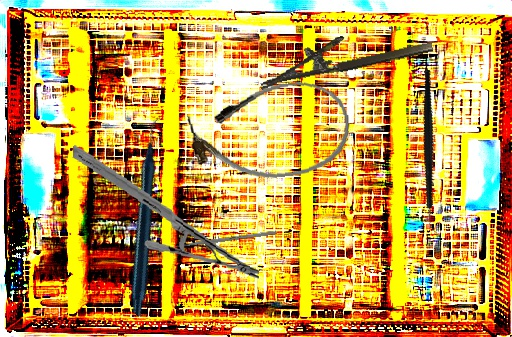Cannula: (183, 76, 357, 188)
Chopper: (375, 68, 489, 237)
Handpiece: (49, 115, 249, 319)
Needle Holder: (63, 144, 269, 282), (254, 18, 434, 90)
Pusher: (166, 230, 277, 250)
